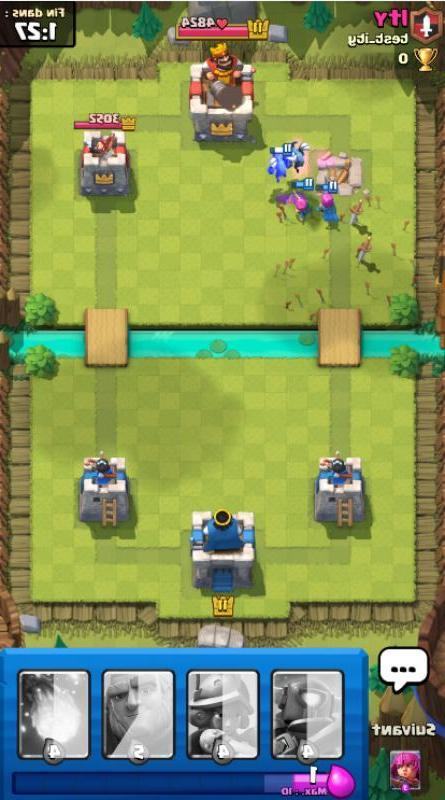player_archers: (314, 183, 344, 225), (287, 183, 314, 222)
player_minions: (264, 144, 289, 182), (283, 138, 308, 172)
